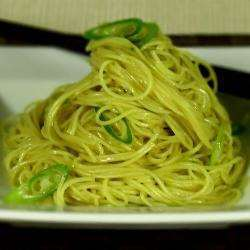plain spaghetti: (15, 19, 250, 208)
